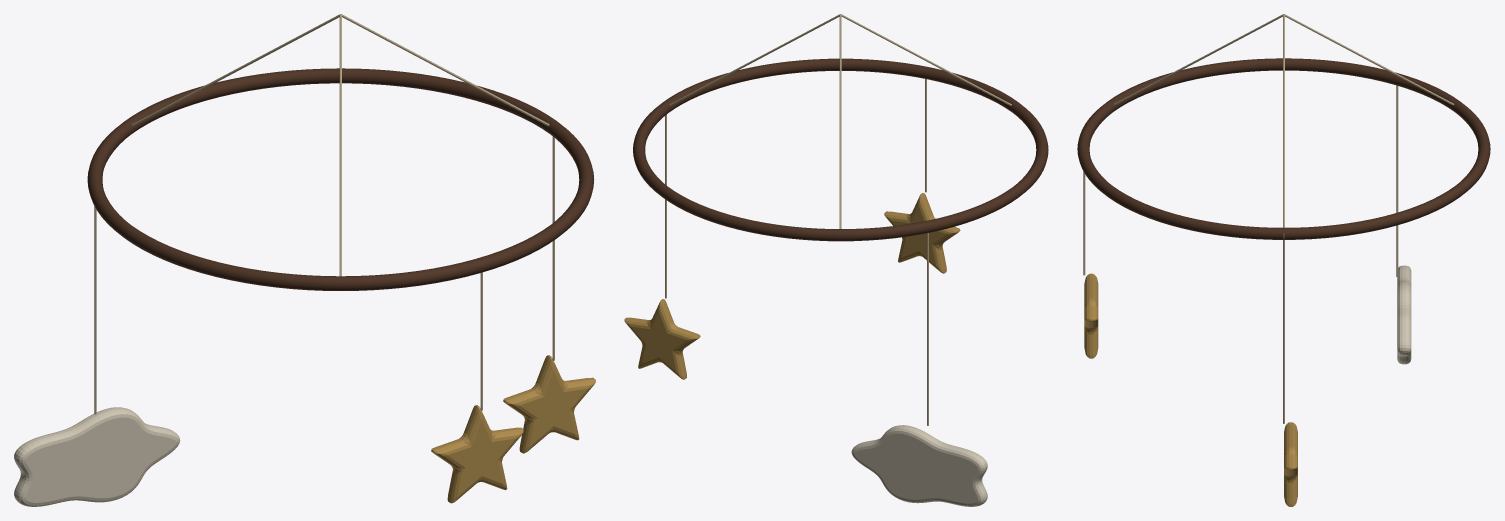
File: mobile.glb
3 views of the same model, side by side, from view 1: azimuth 30°, elevation 25°; view 2: azimuth 150°, elevation 25°; view 3: azimuth 270°, elevation 25° (orthographic). The views are drawn at different scales.
Visible parts, largest first — view 1: VI mobile | embroidery hoop, VI mobile | sewn cloud, VI mobile | sewn star, VI mobile | sewn star.001, VI mobile | suspension.002, VI mobile | suspension, VI mobile | suspension.001; view 2: VI mobile | embroidery hoop, VI mobile | sewn cloud, VI mobile | sewn star.001, VI mobile | sewn star, VI mobile | suspension.001, VI mobile | suspension, VI mobile | suspension.002; view 3: VI mobile | embroidery hoop, VI mobile | sewn cloud, VI mobile | sewn star, VI mobile | sewn star.001, VI mobile | cotton drop, VI mobile | suspension.001, VI mobile | suspension.002.
Part boxes in pixels (left/top/right/bottom): VI mobile | embroidery hoop: left=87, top=68, right=594, bottom=290; VI mobile | sewn cloud: left=14, top=407, right=180, bottom=506; VI mobile | sewn star: left=431, top=405, right=523, bottom=503; VI mobile | sewn star.001: left=503, top=355, right=595, bottom=453; VI mobile | suspension.002: left=339, top=14, right=341, bottom=276; VI mobile | suspension: left=341, top=14, right=549, bottom=126; VI mobile | suspension.001: left=132, top=14, right=340, bottom=126; VI mobile | embroidery hoop: left=633, top=58, right=1048, bottom=241; VI mobile | sewn cloud: left=851, top=425, right=987, bottom=506; VI mobile | sewn star.001: left=624, top=299, right=700, bottom=379; VI mobile | sewn star: left=884, top=193, right=960, bottom=273; VI mobile | suspension.001: left=839, top=14, right=841, bottom=228; VI mobile | suspension: left=669, top=14, right=840, bottom=105; VI mobile | suspension.002: left=841, top=14, right=1011, bottom=105; VI mobile | embroidery hoop: left=1077, top=58, right=1490, bottom=239; VI mobile | sewn cloud: left=1397, top=265, right=1411, bottom=364; VI mobile | sewn star: left=1084, top=273, right=1098, bottom=358; VI mobile | sewn star.001: left=1284, top=422, right=1297, bottom=506; VI mobile | cotton drop: left=1396, top=85, right=1398, bottom=276; VI mobile | suspension.001: left=1284, top=14, right=1454, bottom=105; VI mobile | suspension.002: left=1113, top=14, right=1283, bottom=105.
Bounding box in the file's own units: 0.5503 × 0.5173 × 0.474.
